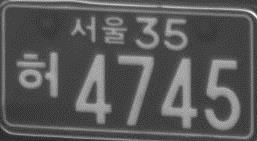3: (135, 15, 160, 50)
4: (159, 57, 200, 130), (73, 52, 112, 125)
5: (201, 58, 241, 131), (162, 16, 187, 51)
7: (116, 54, 155, 127)
서울_O: (70, 14, 129, 46)
허: (15, 49, 59, 98)
